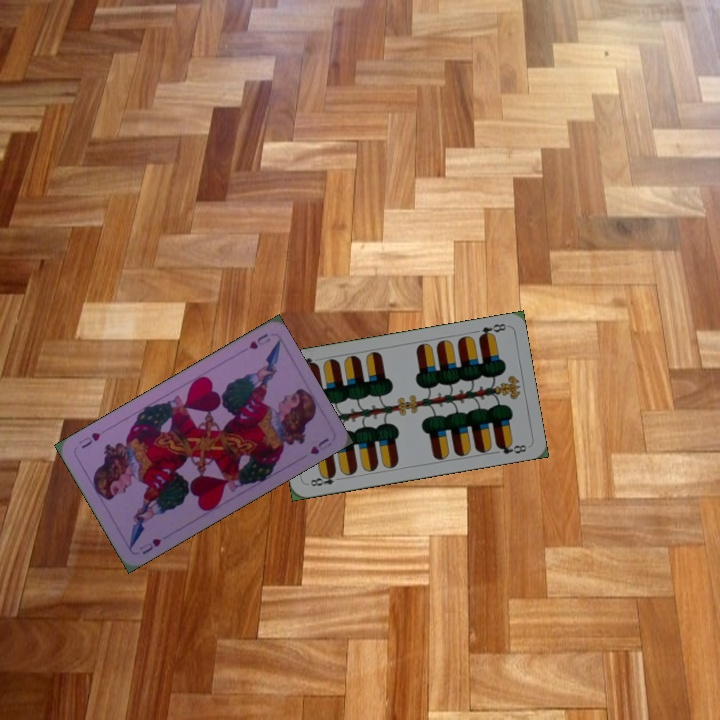E8: (304, 469, 345, 489), (475, 319, 509, 341)
HU: (135, 534, 164, 557), (245, 329, 273, 352)
